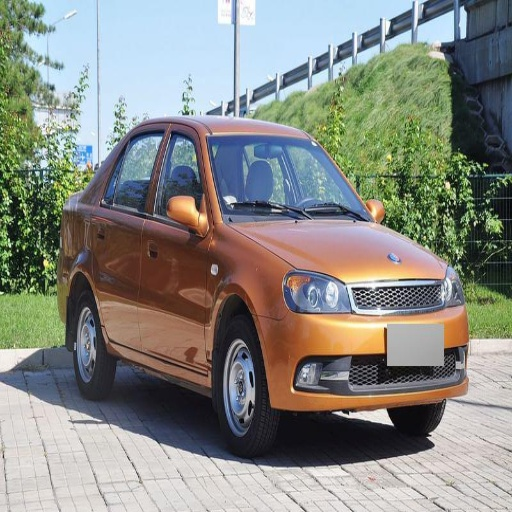front_bumper: (259, 278, 466, 410)
front_right_door: (142, 126, 210, 374)
front_right_light: (283, 269, 351, 313)
hood: (236, 217, 447, 282)
